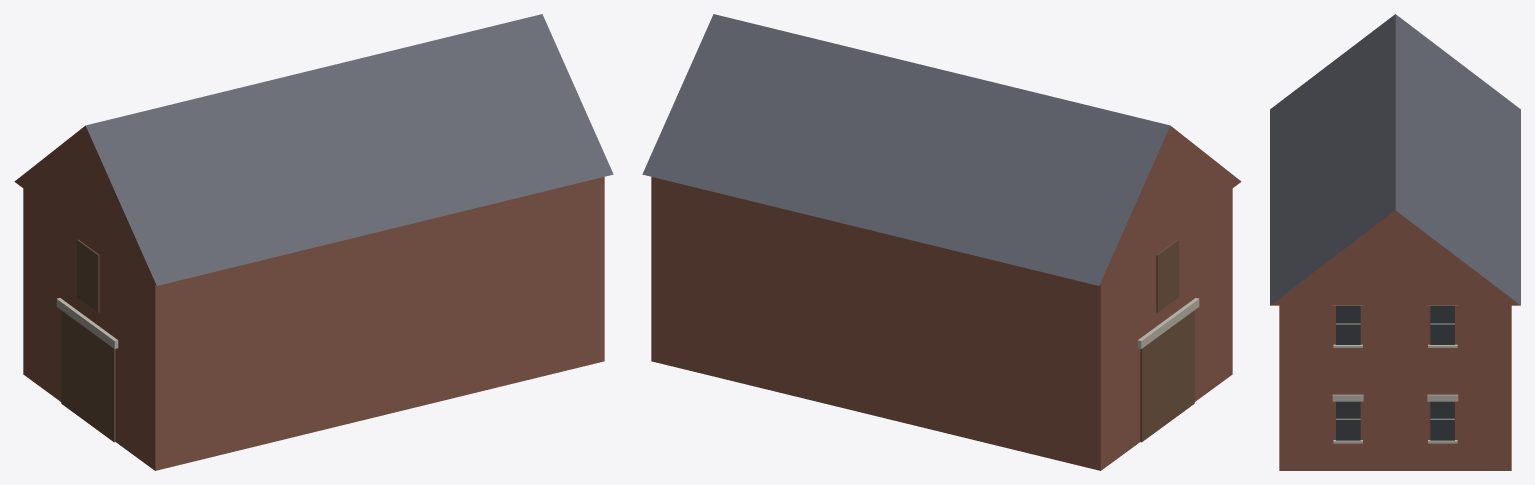
Rendered from house_1736_prairie_coach_house__draft_1904.glb.
3 renders of one model, left to right at view 1: azimuth 30°, elevation 25°; view 2: azimuth 150°, elevation 25°; view 3: azimuth 270°, elevation 25°, orthographic. The views are drawn at different scales.
Visible parts, largest first — view 1: house_1736_prairie_coach_house__draft_1904; view 2: house_1736_prairie_coach_house__draft_1904; view 3: house_1736_prairie_coach_house__draft_1904.
Boxes of the visible parts, x1,y1,x2,y2 form: house_1736_prairie_coach_house__draft_1904: [14, 14, 613, 470]; house_1736_prairie_coach_house__draft_1904: [642, 14, 1241, 470]; house_1736_prairie_coach_house__draft_1904: [1270, 14, 1520, 470].
Size of the model in its own units: 14.99 by 9.35 by 8.1.
